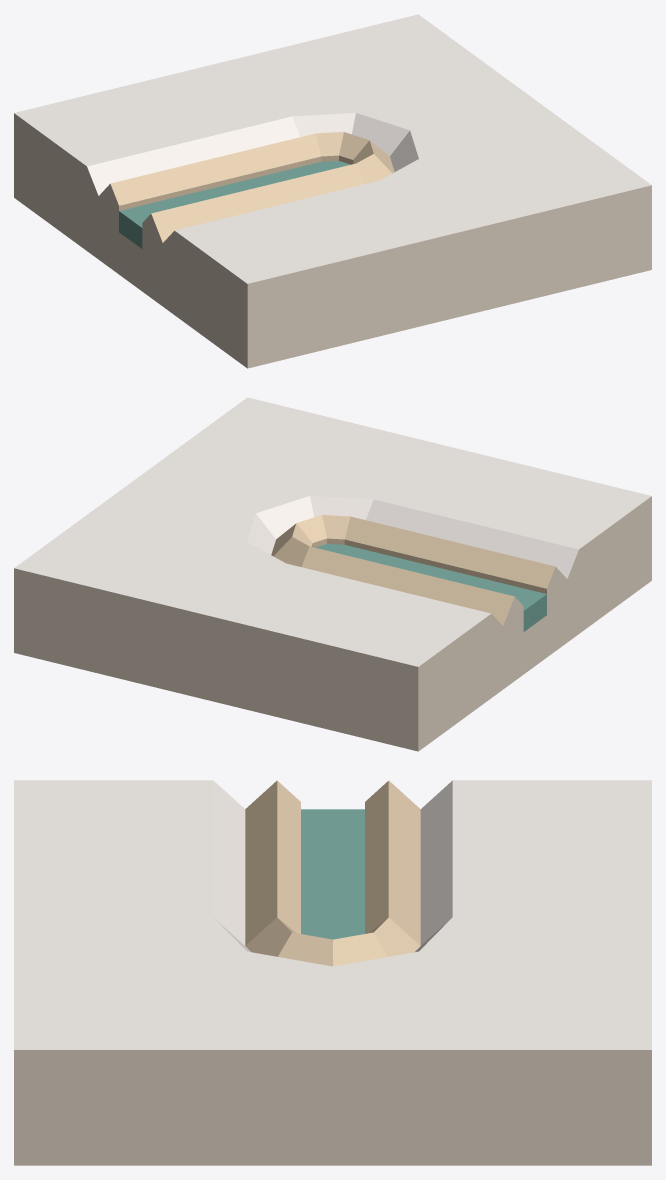
Rendered from Puzzle_Floor_Conduit_Standard_End.glb.
3 views of the same model, one above another, from view 1: azimuth 30°, elevation 25°; view 2: azimuth 150°, elevation 25°; view 3: azimuth 270°, elevation 25° (orthographic). The views are drawn at different scales.
Visible parts, largest first — view 1: Puzzle_Floor_Conduit_Standard_End; view 2: Puzzle_Floor_Conduit_Standard_End; view 3: Puzzle_Floor_Conduit_Standard_End.
Part boxes in pixels (box(x1,y1,x2,y2)): Puzzle_Floor_Conduit_Standard_End: box(14, 14, 651, 368); Puzzle_Floor_Conduit_Standard_End: box(14, 397, 651, 751); Puzzle_Floor_Conduit_Standard_End: box(14, 780, 651, 1165).
Size of the model in its own units: 1 by 0.2 by 1.
